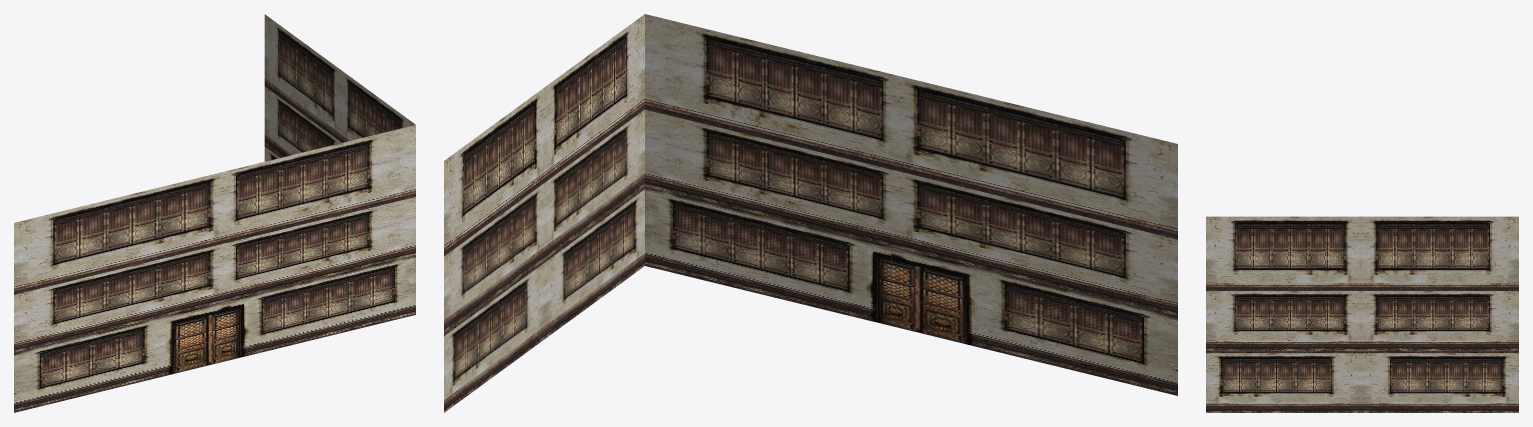
3 views of the same model, side by side, from view 1: azimuth 30°, elevation 25°; view 2: azimuth 150°, elevation 25°; view 3: azimuth 270°, elevation 25° (orthographic). The views are drawn at different scales.
Parts seen in each view (by area): view 1: Box10; view 2: Box10; view 3: Box10.
Boxes of the visible parts, <box> form: Box10: <box>14,14,415,412</box>; Box10: <box>444,14,1177,412</box>; Box10: <box>1206,216,1518,412</box>.
Bounding box in the file's own units: 465 × 210 × 303.
